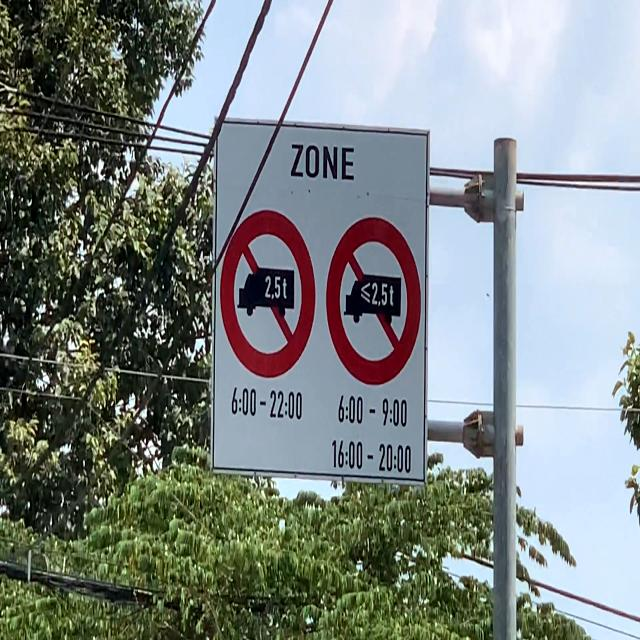P.106b: (326, 203, 422, 390), (220, 203, 318, 376)
